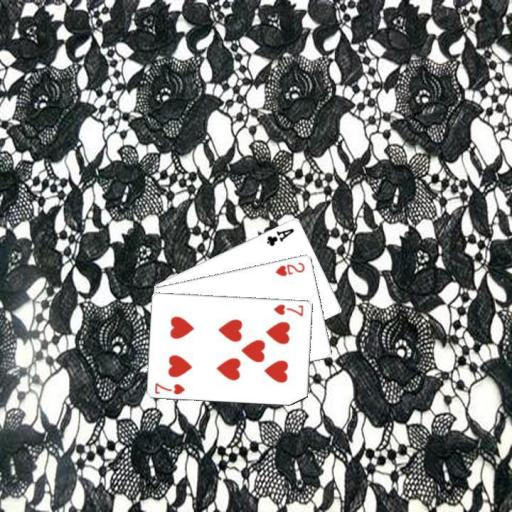2H: (273, 259, 307, 277)
7H: (152, 379, 187, 396), (270, 301, 305, 317)
AC: (264, 225, 296, 248)
